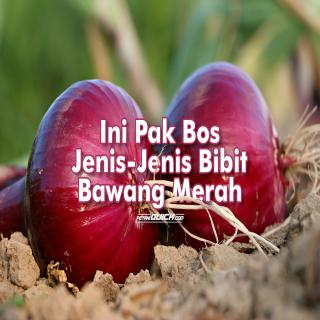Bawang Merah: (24, 79, 163, 291), (155, 62, 292, 255)
